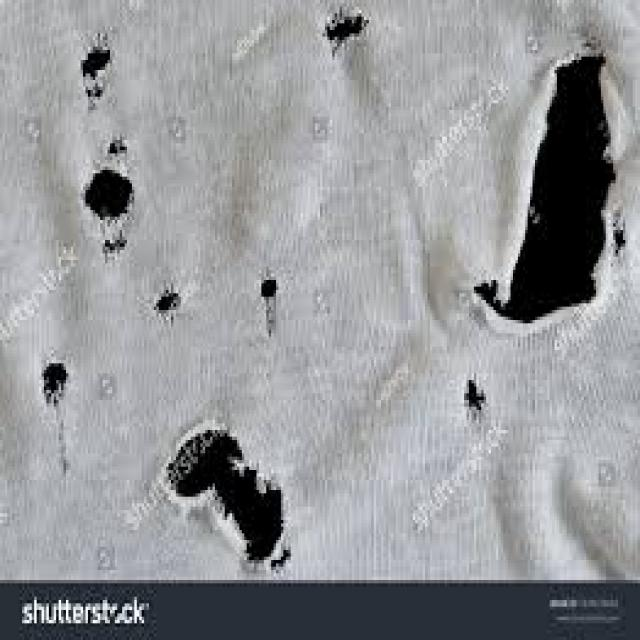Clothes -Biodegradable-: (0, 0, 640, 577)
